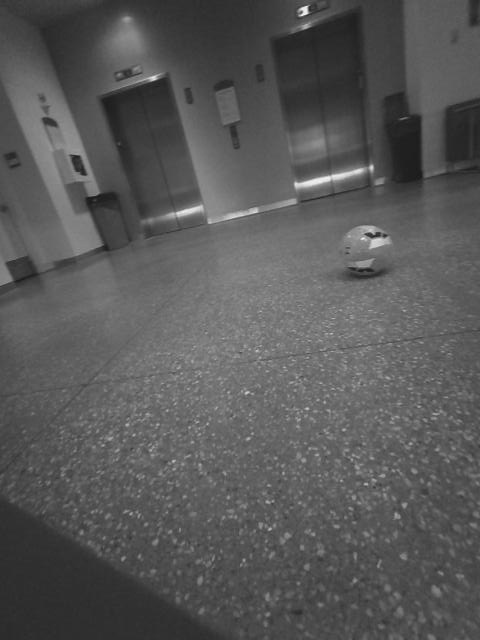ball: (336, 218, 400, 280)
